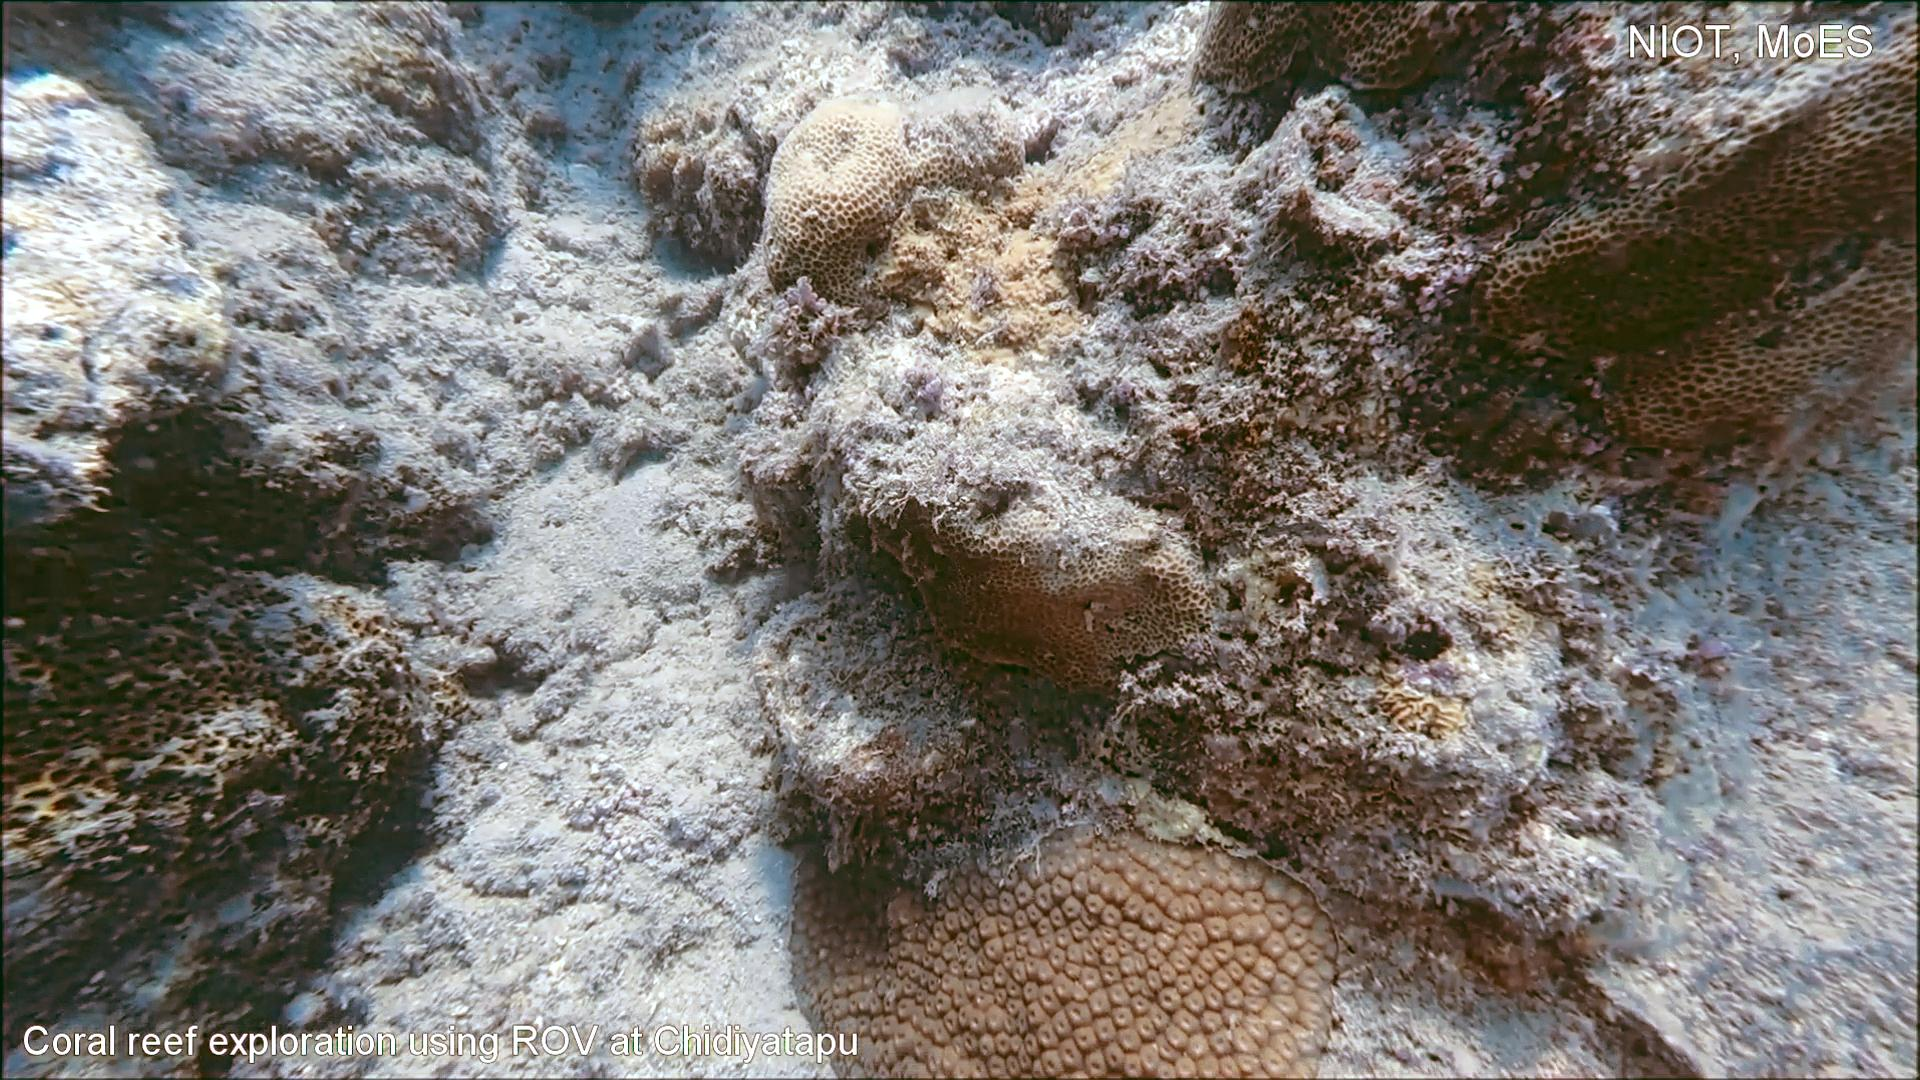Montastraea: (775, 802, 1353, 1080)
